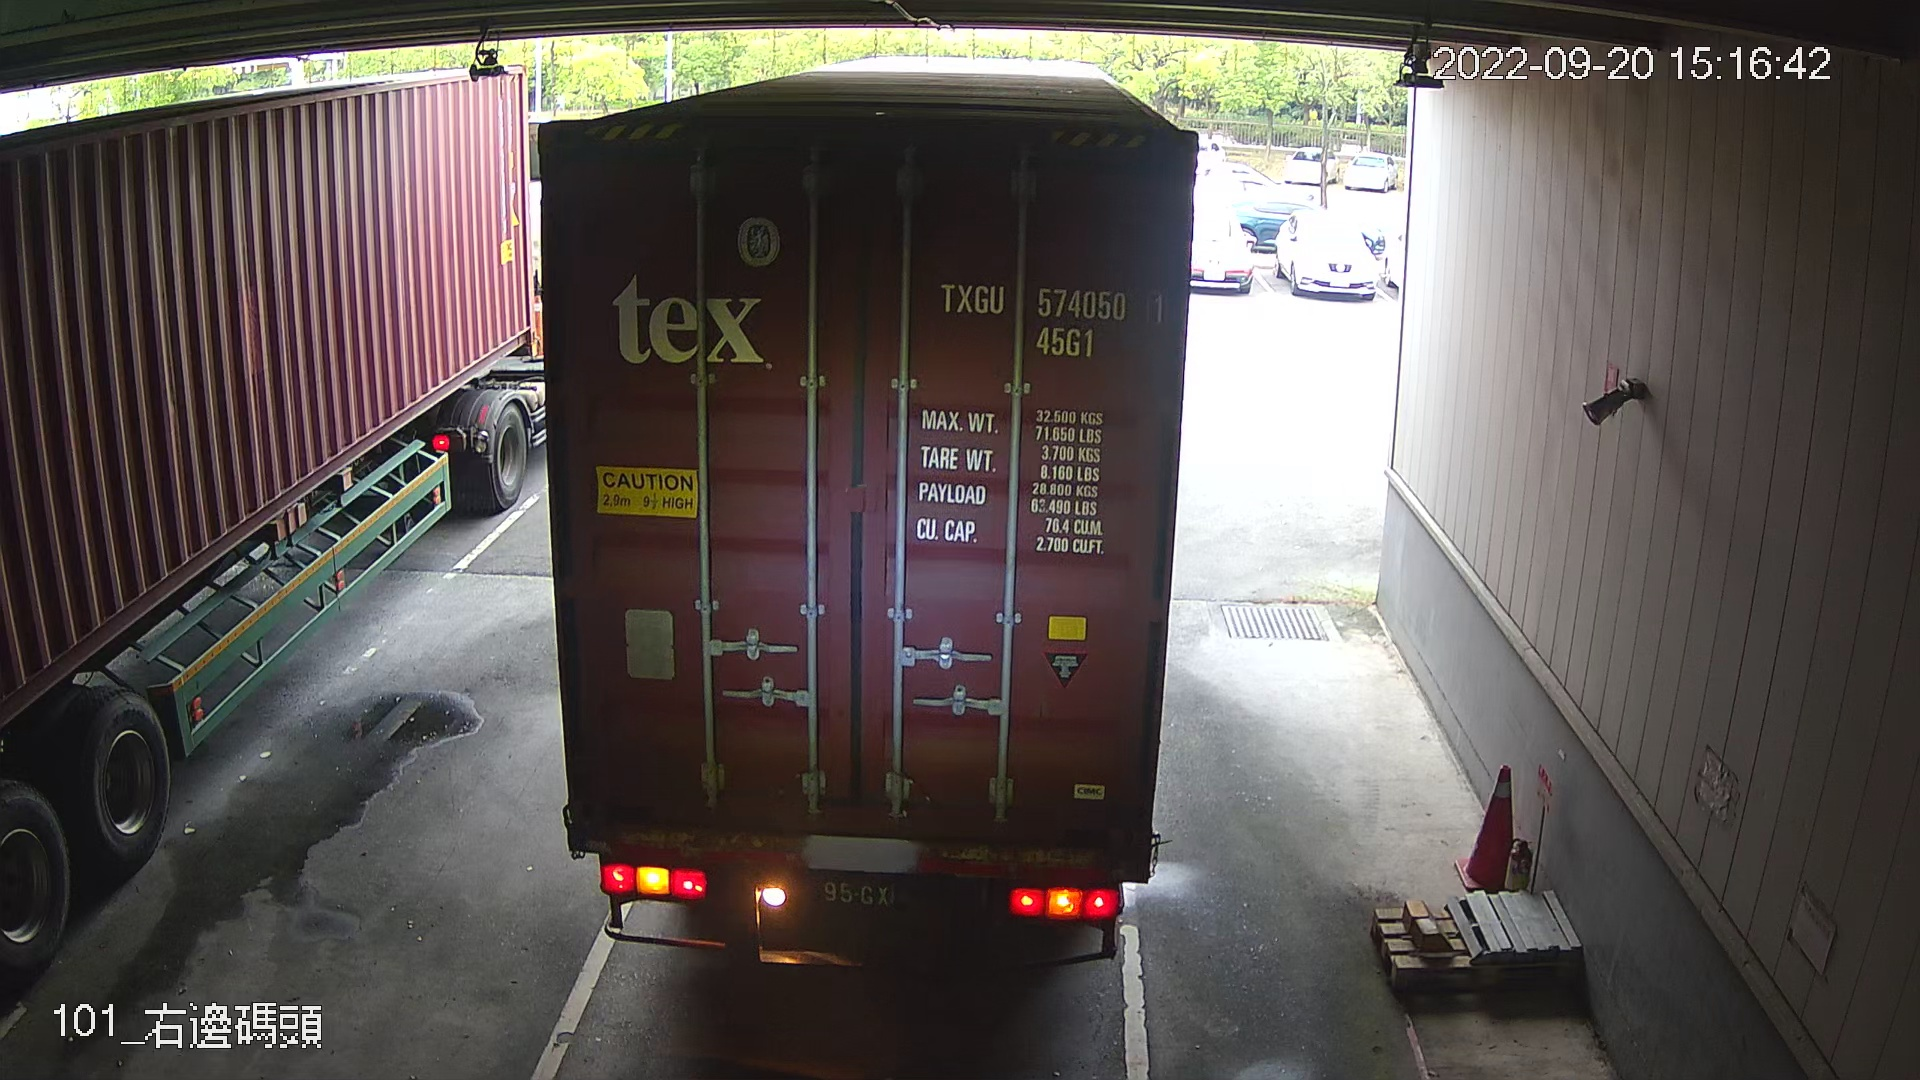container: (926, 269, 1175, 367)
